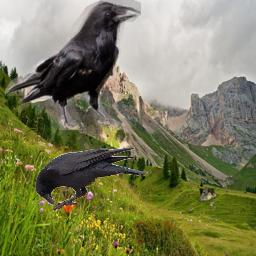Crow: (5, 0, 141, 130), (35, 147, 149, 213)
